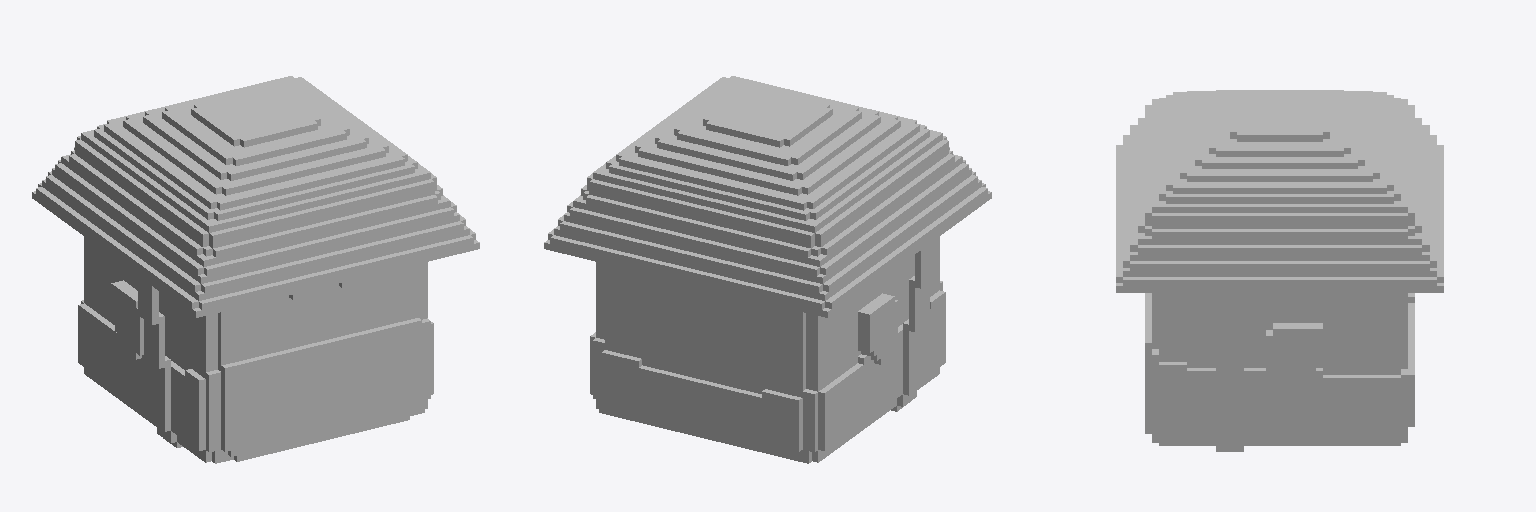
The model's file is BuilderHead.obj.
3 views of the same model, side by side, from view 1: azimuth 30°, elevation 25°; view 2: azimuth 150°, elevation 25°; view 3: azimuth 270°, elevation 25° (orthographic).
Parts seen in each view (by area): view 1: object 1; view 2: object 1; view 3: object 1.
Boxes of the visible parts, box(x1,y1,x2,y2) form: object 1: box(32, 76, 479, 463); object 1: box(544, 76, 991, 463); object 1: box(1116, 90, 1443, 451).
Size of the model in its own units: 4.6 by 4.4 by 4.6.